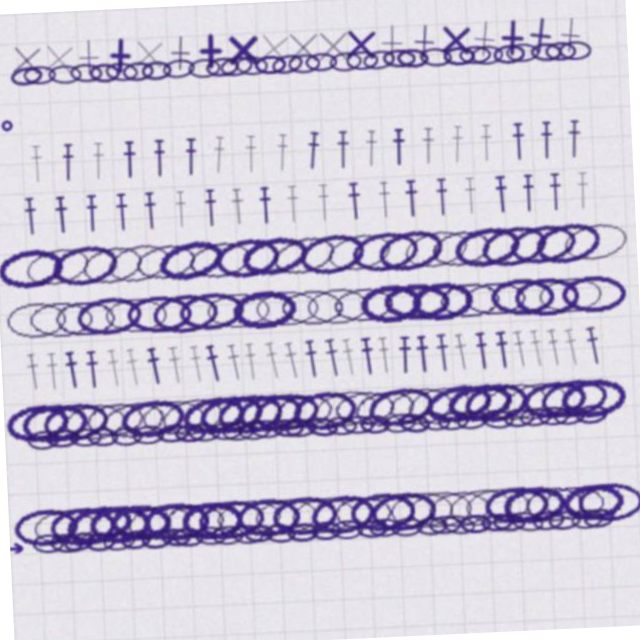chain: (271, 229, 342, 280), (158, 230, 229, 280), (378, 230, 450, 279), (536, 230, 607, 279), (106, 230, 176, 279), (54, 491, 125, 539), (25, 231, 95, 279), (404, 231, 474, 279), (482, 231, 552, 279), (242, 231, 313, 278), (300, 231, 371, 278), (419, 387, 490, 434), (81, 231, 150, 279), (327, 231, 397, 278), (455, 231, 525, 278), (306, 387, 376, 434), (53, 231, 122, 278), (154, 387, 223, 434), (193, 387, 262, 434), (511, 232, 581, 278), (115, 492, 185, 538), (353, 232, 424, 277), (188, 232, 257, 278), (564, 232, 633, 278), (94, 388, 163, 434), (362, 388, 431, 434), (497, 388, 566, 434), (477, 388, 547, 433), (535, 388, 605, 433), (135, 232, 203, 278), (176, 388, 244, 434), (346, 388, 414, 434), (211, 388, 280, 433), (441, 388, 510, 433), (458, 388, 527, 433), (216, 232, 284, 277), (248, 389, 317, 433), (431, 232, 498, 277), (37, 389, 105, 433), (115, 389, 183, 433), (401, 389, 469, 433), (517, 389, 585, 433), (0, 233, 67, 277), (232, 389, 299, 433), (300, 493, 367, 537), (76, 285, 144, 328), (16, 389, 84, 432), (287, 389, 355, 432), (555, 389, 623, 432), (267, 389, 333, 433), (188, 494, 257, 536), (0, 389, 67, 432), (383, 389, 450, 432), (438, 493, 505, 536), (78, 389, 144, 432), (152, 286, 219, 328), (57, 390, 124, 432), (361, 494, 428, 536), (417, 494, 484, 536), (262, 494, 330, 535), (22, 494, 88, 536), (493, 494, 559, 536), (179, 286, 246, 327), (206, 494, 273, 535), (244, 494, 311, 535), (281, 495, 349, 535), (328, 390, 394, 431), (538, 287, 605, 327), (232, 286, 297, 327), (411, 286, 476, 327), (40, 495, 106, 535), (455, 495, 522, 534), (332, 287, 397, 327), (136, 391, 201, 431), (4, 495, 69, 535), (384, 287, 450, 326), (134, 495, 200, 534), (399, 495, 465, 534), (553, 495, 617, 535), (280, 287, 345, 326), (152, 495, 217, 534), (341, 495, 406, 534), (380, 495, 445, 534), (475, 495, 540, 534), (28, 288, 94, 326), (206, 288, 272, 326), (255, 288, 321, 326), (515, 288, 581, 326), (562, 288, 628, 326), (5, 287, 69, 326), (306, 287, 370, 326), (360, 287, 424, 326), (438, 287, 502, 326), (491, 287, 555, 326), (79, 495, 143, 534), (100, 495, 164, 534), (227, 495, 291, 534), (514, 495, 578, 534), (127, 288, 192, 326), (463, 288, 528, 326), (533, 496, 598, 534), (569, 496, 634, 534), (53, 288, 117, 326), (104, 288, 168, 326), (172, 496, 235, 534), (323, 496, 386, 534), (499, 518, 535, 544), (52, 518, 87, 543), (282, 51, 317, 75), (431, 519, 466, 543), (392, 415, 426, 439), (231, 51, 266, 74), (300, 415, 334, 438), (412, 415, 446, 438), (522, 519, 556, 542), (116, 52, 151, 74), (548, 416, 583, 438), (149, 519, 182, 542), (21, 52, 55, 74), (374, 52, 408, 74), (431, 52, 465, 74), (476, 416, 510, 438), (39, 520, 73, 542), (92, 520, 126, 542), (130, 520, 164, 542), (538, 520, 572, 542), (561, 520, 595, 542), (451, 416, 484, 438), (254, 520, 287, 542), (81, 52, 115, 73), (217, 52, 251, 73), (394, 52, 428, 73), (41, 416, 75, 437), (151, 416, 185, 437), (378, 416, 412, 437), (174, 52, 207, 73), (247, 52, 280, 73), (408, 52, 441, 73), (81, 416, 114, 437), (245, 416, 278, 437), (266, 416, 299, 437), (320, 416, 353, 437), (432, 416, 465, 437), (498, 416, 531, 437), (570, 416, 603, 437), (162, 520, 195, 541), (184, 520, 217, 541), (221, 520, 254, 541), (573, 520, 606, 541), (110, 520, 142, 541), (60, 53, 93, 73), (341, 53, 374, 73), (542, 53, 575, 73), (217, 417, 250, 437), (233, 417, 266, 437), (514, 417, 547, 437), (381, 521, 414, 541), (483, 521, 516, 541), (134, 53, 166, 73), (200, 53, 232, 73), (300, 53, 332, 73), (483, 53, 515, 73), (505, 53, 537, 73), (22, 417, 54, 437), (106, 417, 138, 437), (183, 417, 215, 437), (280, 417, 312, 437), (277, 521, 309, 541), (347, 521, 379, 541), (406, 521, 438, 541), (35, 53, 68, 72), (518, 53, 551, 72), (571, 53, 604, 72), (64, 417, 97, 436), (205, 417, 238, 436), (337, 417, 370, 436), (321, 521, 354, 540), (419, 521, 452, 540), (101, 53, 132, 73), (153, 53, 184, 73), (75, 521, 106, 541), (266, 53, 298, 72), (317, 53, 349, 72), (358, 53, 390, 72), (455, 53, 487, 72), (471, 53, 503, 72), (557, 53, 589, 72), (127, 417, 159, 436), (169, 417, 201, 436), (533, 417, 565, 436), (22, 521, 54, 540), (202, 521, 234, 540), (359, 521, 391, 540), (450, 521, 482, 540), (471, 521, 503, 540), (355, 417, 386, 436), (234, 521, 265, 540), (301, 521, 332, 540)
half_double: (280, 339, 301, 379), (560, 339, 581, 379), (202, 339, 222, 378), (223, 339, 243, 378), (261, 339, 281, 378), (321, 339, 341, 378), (450, 339, 470, 378), (582, 339, 602, 378), (22, 339, 41, 378), (122, 339, 141, 378), (143, 339, 162, 378), (164, 339, 183, 378), (338, 339, 357, 378), (509, 339, 528, 378), (526, 339, 545, 378), (543, 339, 562, 378), (312, 131, 330, 170), (61, 339, 79, 378), (103, 339, 121, 378), (186, 339, 204, 378), (301, 339, 319, 378), (357, 339, 375, 378), (492, 339, 510, 378), (218, 131, 235, 170), (241, 339, 258, 378), (374, 339, 391, 378), (433, 339, 450, 378), (472, 339, 489, 378), (457, 132, 474, 170), (574, 132, 591, 170), (82, 340, 99, 378), (98, 132, 114, 170), (282, 132, 298, 170), (343, 132, 359, 170), (371, 132, 387, 170), (428, 132, 444, 170), (28, 184, 44, 222), (59, 184, 75, 222), (148, 184, 164, 222), (235, 184, 251, 222), (352, 184, 368, 222), (499, 184, 515, 222), (43, 340, 59, 378), (413, 340, 429, 378), (37, 132, 52, 170), (68, 132, 83, 170), (130, 132, 145, 170), (191, 132, 206, 170), (251, 132, 266, 170), (399, 132, 414, 170), (487, 132, 502, 170), (519, 132, 534, 170), (547, 132, 562, 170), (120, 184, 135, 222), (291, 184, 306, 222), (410, 184, 425, 222), (440, 184, 455, 222), (581, 184, 596, 222), (396, 340, 411, 378), (160, 132, 174, 170), (90, 184, 104, 222), (179, 184, 193, 222), (209, 184, 223, 222), (264, 184, 278, 222), (322, 184, 336, 222), (383, 184, 397, 222), (469, 184, 483, 222), (527, 184, 541, 222), (554, 184, 568, 222)
noise: (10, 105, 23, 118), (0, 529, 15, 539)
single: (265, 25, 308, 68), (532, 25, 575, 68), (50, 26, 92, 68), (476, 26, 518, 68), (562, 26, 604, 68), (18, 26, 59, 67), (141, 26, 182, 67), (353, 26, 394, 67), (416, 26, 457, 67), (448, 26, 489, 67), (113, 27, 153, 67), (173, 27, 213, 67), (505, 27, 545, 67), (204, 27, 243, 66), (236, 27, 275, 66), (296, 27, 335, 66), (326, 27, 365, 66), (385, 27, 424, 66), (82, 28, 120, 66)
